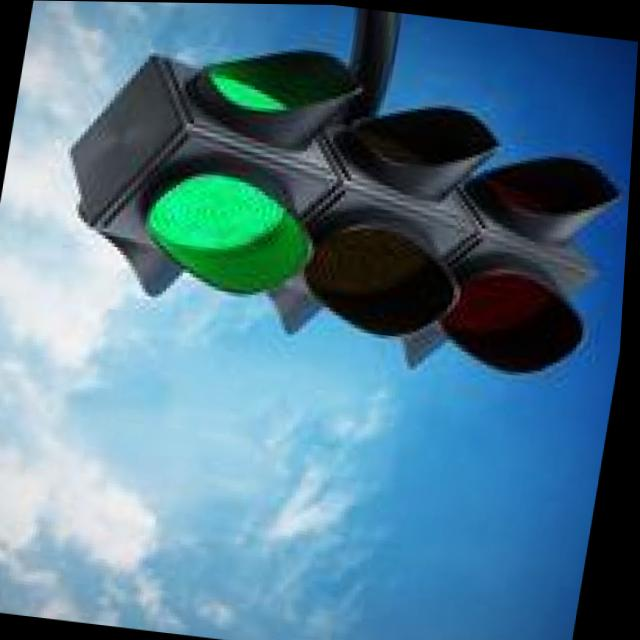green_light: (105, 147, 338, 351), (173, 2, 363, 177)
